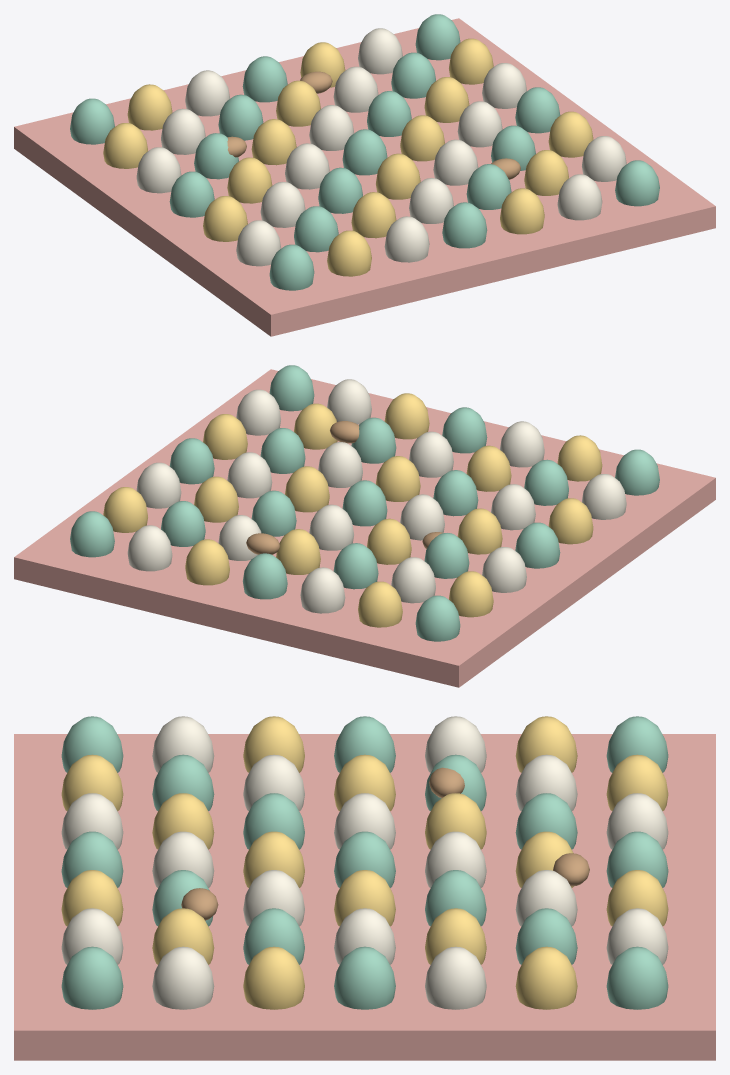
The model's file is snuffle-mat.glb.
The picture shows the model from 3 angles, top to bottom: view 1: azimuth 30°, elevation 25°; view 2: azimuth 150°, elevation 25°; view 3: azimuth 270°, elevation 25°; orthographic projection. The views are drawn at different scales.
Visible parts, largest first — view 1: snuffle mat, soft snuffle tuft.001, soft snuffle tuft.003, soft snuffle tuft.002, hidden snack.001; view 2: snuffle mat, soft snuffle tuft.001, soft snuffle tuft.002, soft snuffle tuft.003, hidden snack.001; view 3: snuffle mat, soft snuffle tuft.001, soft snuffle tuft.003, soft snuffle tuft.002, hidden snack.001.
Part boxes in pixels (bbox=[...]): snuffle mat: bbox=[14, 18, 715, 336]; soft snuffle tuft.001: bbox=[70, 14, 659, 290]; soft snuffle tuft.003: bbox=[136, 28, 626, 266]; soft snuffle tuft.002: bbox=[103, 38, 593, 276]; hidden snack.001: bbox=[227, 71, 520, 179]; snuffle mat: bbox=[14, 369, 715, 687]; soft snuffle tuft.001: bbox=[70, 365, 659, 641]; soft snuffle tuft.002: bbox=[103, 393, 602, 627]; soft snuffle tuft.003: bbox=[127, 379, 626, 613]; hidden snack.001: bbox=[246, 421, 443, 554]; snuffle mat: bbox=[14, 734, 715, 1060]; soft snuffle tuft.001: bbox=[61, 716, 668, 1009]; soft snuffle tuft.003: bbox=[61, 716, 668, 1009]; soft snuffle tuft.002: bbox=[61, 716, 668, 1009]; hidden snack.001: bbox=[181, 767, 589, 920].
Bounding box in the file's own units: 1.7 × 0.21 × 1.7.
